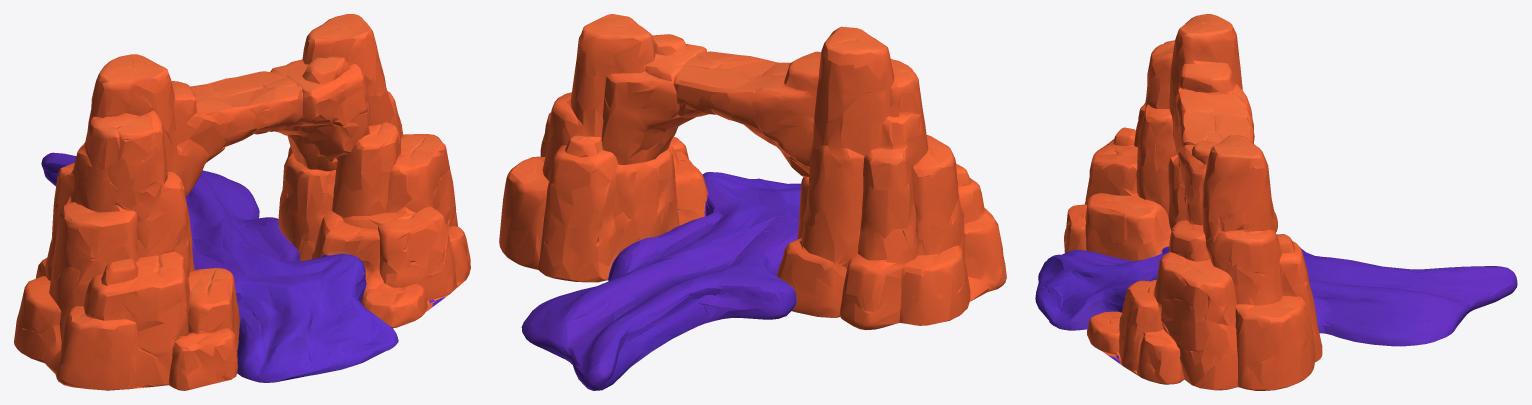
Rendered from canyon-purple-arch.glb.
3 views of the same model, side by side, from view 1: azimuth 30°, elevation 25°; view 2: azimuth 150°, elevation 25°; view 3: azimuth 270°, elevation 25° (orthographic). The views are drawn at different scales.
Visible parts, largest first — view 1: output_unwrapped; view 2: output_unwrapped; view 3: output_unwrapped.
Part boxes in pixels (x1,y1,x2,y2): output_unwrapped: [14, 14, 470, 390]; output_unwrapped: [499, 14, 1006, 390]; output_unwrapped: [1035, 14, 1517, 390].
Bounding box in the file's own units: 1.77 × 0.9919 × 1.9.
1 material, 1 textured.
